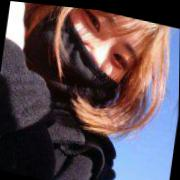WRONG: (32, 4, 144, 119)
